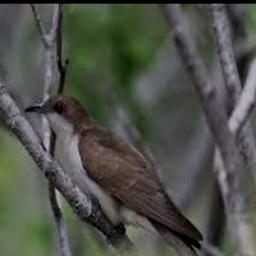Cuckoo: (23, 95, 234, 256)
